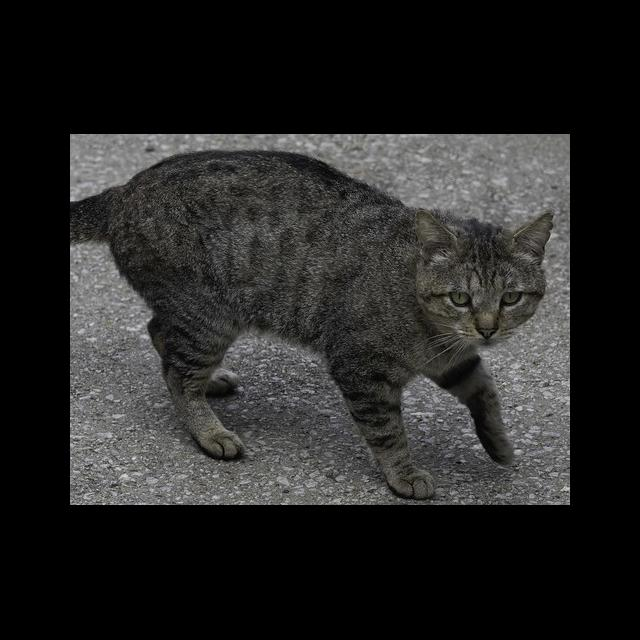animals: (70, 150, 551, 498)
